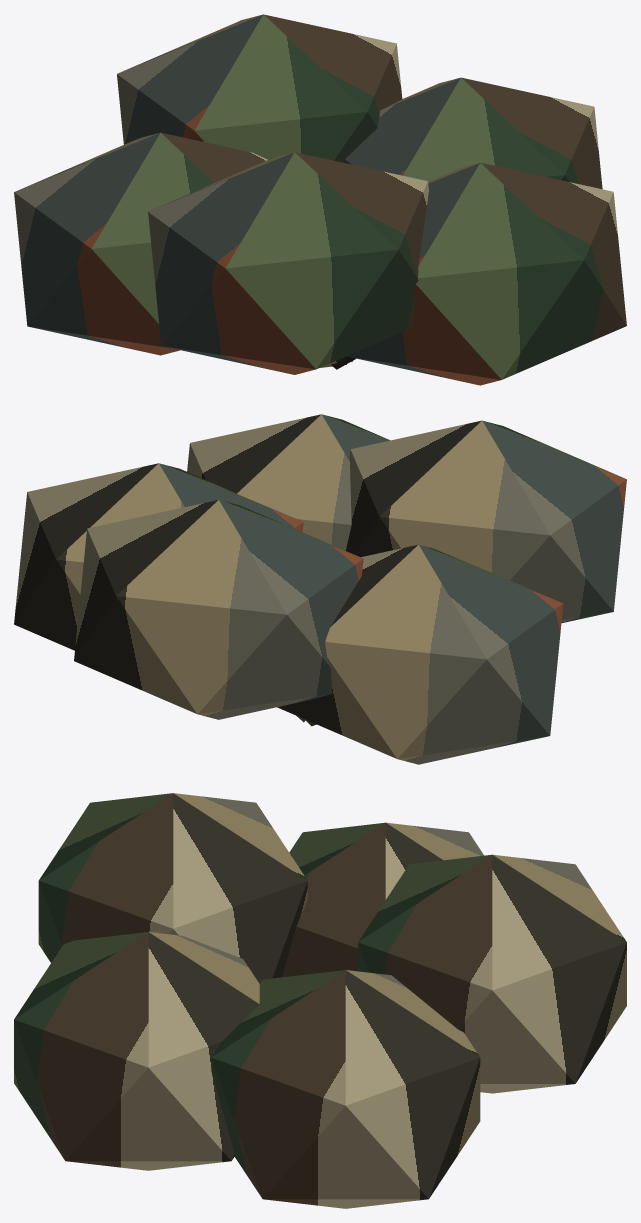
Rendered from scrubInstances.obj.
3 views of the same model, one above another, from view 1: azimuth 30°, elevation 25°; view 2: azimuth 150°, elevation 25°; view 3: azimuth 270°, elevation 25° (orthographic). The views are drawn at different scales.
Parts seen in each view (by area): view 1: scrubInstances; view 2: scrubInstances; view 3: scrubInstances.
Part boxes in pixels (left/top/right/bottom): scrubInstances: left=14, top=14, right=626, bottom=385; scrubInstances: left=14, top=414, right=626, bottom=764; scrubInstances: left=14, top=793, right=626, bottom=1208.
Size of the model in its own units: 1.55 by 0.7632 by 1.4.
1 material, 1 textured.
